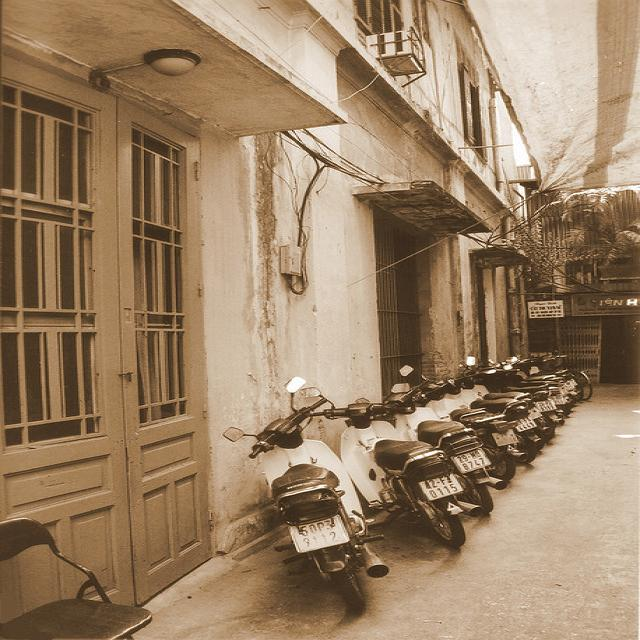motor: (222, 375, 389, 616), (316, 400, 472, 549), (391, 362, 501, 523), (423, 383, 529, 482), (462, 354, 571, 412), (464, 377, 554, 442), (442, 377, 540, 434), (489, 358, 574, 405), (513, 356, 582, 403), (492, 388, 562, 431), (475, 365, 558, 387)
